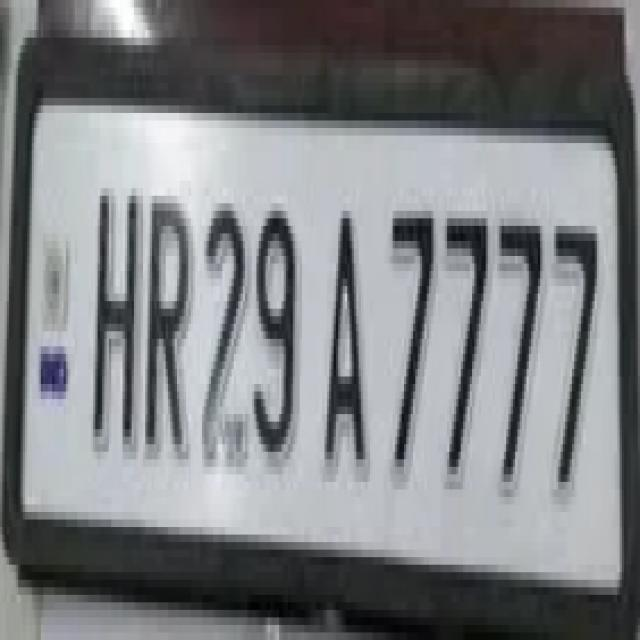7: (438, 192, 490, 480), (551, 210, 603, 498), (496, 199, 544, 504), (388, 192, 436, 488)
9: (250, 199, 298, 471)
A: (324, 197, 370, 488)
H: (92, 178, 142, 449)
R: (144, 182, 192, 456), (202, 193, 248, 476)
